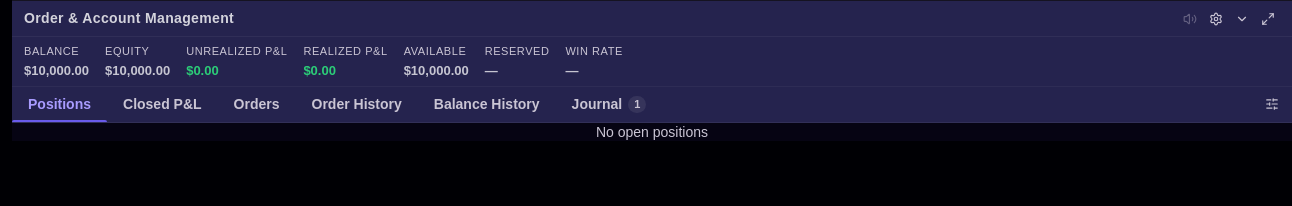
Test: Section 4.8–4.11 — Journal tab › 4.8: user note (isUserNote=true) renders an "Edit note" pencil in the DOM
Click the button "journal 1".
click(609, 104)  # box [556,87,662,122]
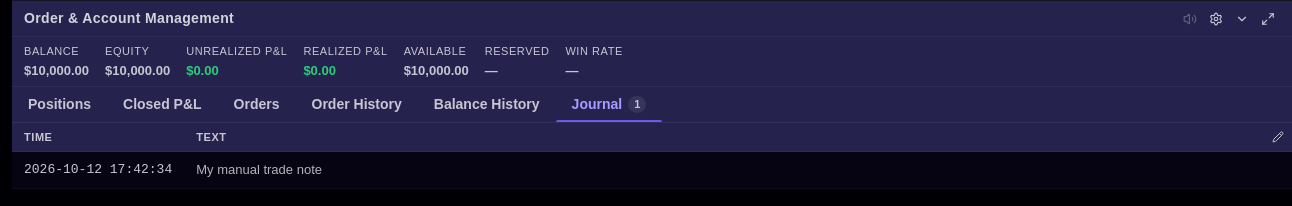
Expected: the text "My manual trade note" is shown, [196,160,322,180]
